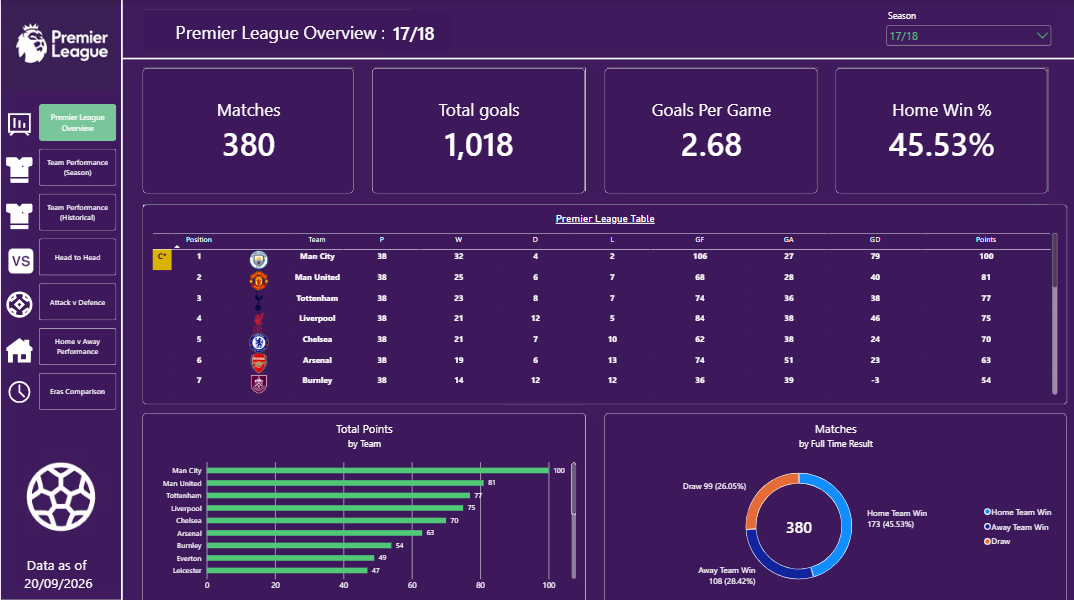

This screenshot's page, from the dashboard's own definition file:
{"tool":"powerbi","page":{"name":"Premier League Overview","canvas":[1920,1080],"ordinal":0},"visuals":[{"type":"pageNavigator","box":[68.6,188.2,138.6,550],"z":0},{"type":"image","box":[0,280.6,69.2,46.6],"z":1000},{"type":"image","box":[0,363.1,69.2,46.6],"z":2000},{"type":"image","box":[0,200.8,69.2,46.6],"z":3000},{"type":"image","box":[0,521.4,69.2,46.6],"z":4000},{"type":"image","box":[0,603.8,69.2,46.6],"z":5000},{"type":"slicer","fields":{"Values":["dim_season.season_name"]},"box":[1577.6,18.4,304.5,82.9],"z":7000},{"type":"textbox","box":[253.8,17.9,492.4,71.7],"z":8000},{"type":"cardVisual","fields":{"Data":["Min(Season Analysis.season_name)"]},"box":[685.5,24.8,120.1,71],"z":9000},{"type":"cardVisual","fields":{"Data":["MATCH_RESULTS.Total Matches"]},"box":[253.7,123.5,377.2,225],"z":10000},{"type":"cardVisual","fields":{"Data":["MATCH_RESULTS.Total goals"]},"box":[664.8,123.5,380.6,225],"z":11000},{"type":"cardVisual","fields":{"Data":["MATCH_RESULTS.Goals Per Game"]},"box":[1079.3,123.5,380.6,225],"z":12000},{"type":"cardVisual","fields":{"Data":["MATCH_RESULTS.Home Win %"]},"box":[1492,123.5,378.9,225],"z":13000},{"type":"clusteredBarChart","fields":{"Category":["dim_team.team_name"],"Y":["Season Analysis.Total Points"]},"box":[254,739.5,791.4,340.5],"z":14000},{"type":"tableEx","title":"Premier League Table","fields":{"Values":["Season Analysis.Finish Category","Season Analysis.LEAGUE_POSITION","dim_team.logo","dim_team.team_name","Sum(Season Analysis.Played)","Season Analysis.TOTAL WINS","Season Analysis.TOTAL DRAWS","Season Analysis.TOTAL LOSSES","Sum(Season Analysis.GoalsFor)","Sum(Season Analysis.GoalsAgainst)","Sum(Season Analysis.GoalDifference)","Season Analysis.Total Points"]},"box":[254,367.1,1650.6,356.5],"z":15000},{"type":"donutChart","fields":{"Category":["MATCH_RESULTS.Full time result label"],"Y":["CountNonNull(MATCH_RESULTS.match_id)"]},"box":[1080,739.5,824.6,340.5],"z":16000},{"type":"textbox","box":[0,994,209,68.8],"z":16001},{"type":"image","box":[2.7,444.2,69.2,46.6],"z":16002},{"type":"image","box":[0,678.3,69.2,47.9],"z":16003}]}

Visuals, with their boxes on the page's 1920x1080 design canvas (x1, y1, x2, y2). These are canvas units, not pixel positions in the 1074x600 screenshot, which may show the page scaled, cropped or inside an application window:
pageNavigator: box(69, 188, 207, 738)
image: box(0, 281, 69, 327)
image: box(0, 363, 69, 410)
image: box(0, 201, 69, 247)
image: box(0, 521, 69, 568)
image: box(0, 604, 69, 650)
slicer - dim_season.season_name: box(1578, 18, 1882, 101)
textbox: box(254, 18, 746, 90)
cardVisual - Min(Season Analysis.season_name): box(686, 25, 806, 96)
cardVisual - MATCH_RESULTS.Total Matches: box(254, 124, 631, 348)
cardVisual - MATCH_RESULTS.Total goals: box(665, 124, 1045, 348)
cardVisual - MATCH_RESULTS.Goals Per Game: box(1079, 124, 1460, 348)
cardVisual - MATCH_RESULTS.Home Win %: box(1492, 124, 1871, 348)
clusteredBarChart - dim_team.team_name x Season Analysis.Total Points: box(254, 740, 1045, 1080)
"Premier League Table" tableEx: box(254, 367, 1905, 724)
donutChart - MATCH_RESULTS.Full time result label x CountNonNull(MATCH_RESULTS.match_id): box(1080, 740, 1905, 1080)
textbox: box(0, 994, 209, 1063)
image: box(3, 444, 72, 491)
image: box(0, 678, 69, 726)
